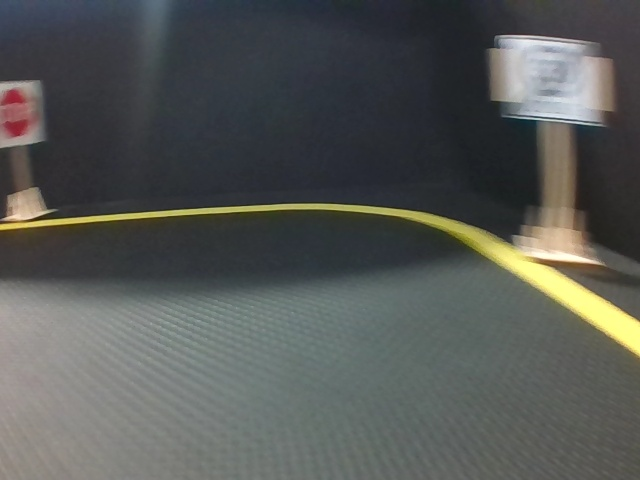no30: (506, 35, 600, 117)
stop: (1, 82, 44, 145)
